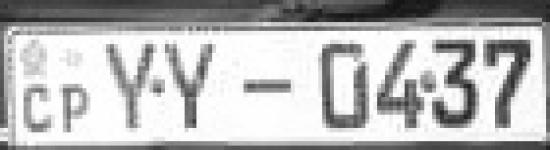-: (238, 77, 297, 97)
0: (312, 32, 374, 139)
3: (428, 30, 482, 137)
4: (377, 31, 426, 137)
7: (483, 30, 539, 137)
C: (18, 82, 58, 139)
P: (60, 81, 96, 140)
Y: (162, 34, 224, 136), (102, 36, 162, 138)
